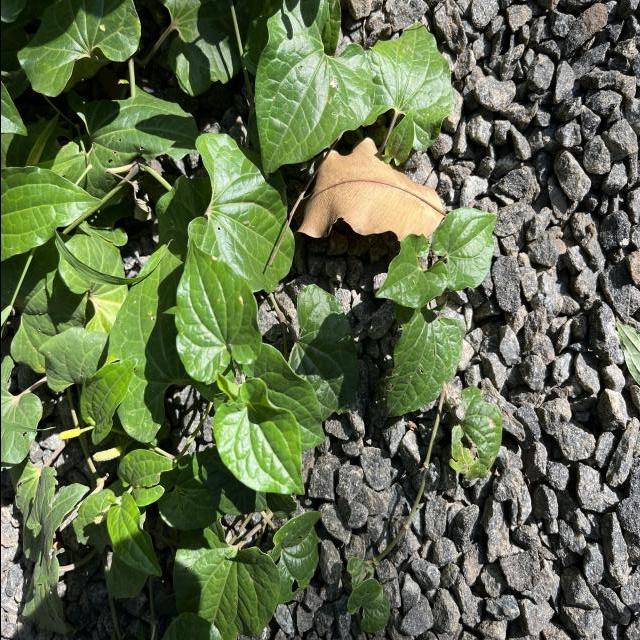Piper longum: (252, 0, 376, 183), (429, 206, 497, 293)
